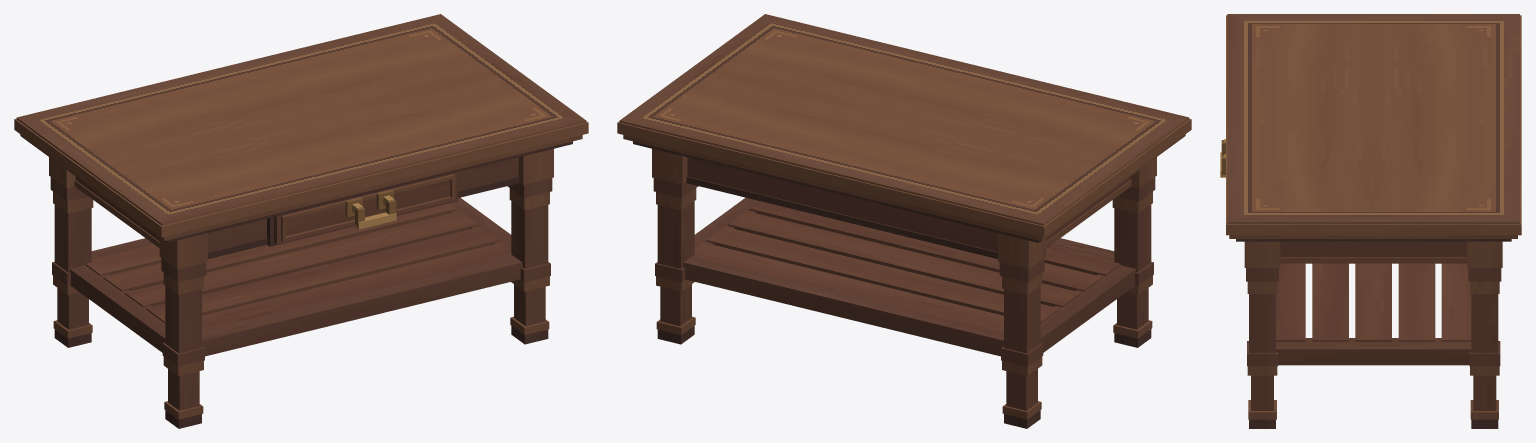
File: IvanCoffeeTable.glb
3 renders of one model, left to right at view 1: azimuth 30°, elevation 25°; view 2: azimuth 150°, elevation 25°; view 3: azimuth 270°, elevation 25°, orthographic.
Parts seen in each view (by area): view 1: Tabletop, Magazine shelf, Square legs, Shelf frame, Drawer, Aprons; view 2: Tabletop, Magazine shelf, Square legs, Shelf frame, Aprons; view 3: Tabletop, Magazine shelf, Square legs, Shelf frame, Aprons.
Boxes of the visible parts, x1,y1,x2,y2 form: Tabletop: [14, 14, 588, 242]; Magazine shelf: [85, 203, 513, 332]; Square legs: [49, 148, 553, 428]; Shelf frame: [70, 197, 522, 356]; Drawer: [267, 172, 457, 246]; Aprons: [74, 157, 519, 258]; Tabletop: [617, 14, 1191, 242]; Magazine shelf: [692, 201, 1120, 332]; Square legs: [652, 148, 1156, 428]; Shelf frame: [683, 197, 1135, 356]; Aprons: [686, 157, 1131, 258]; Tabletop: [1226, 14, 1521, 241]; Magazine shelf: [1276, 263, 1471, 341]; Square legs: [1244, 241, 1502, 428]; Shelf frame: [1276, 338, 1471, 365]; Aprons: [1280, 241, 1466, 263].
Bounding box in the file's own units: 0.918 × 0.451 × 0.558.
Materials: 8 (8 with a texture image).
